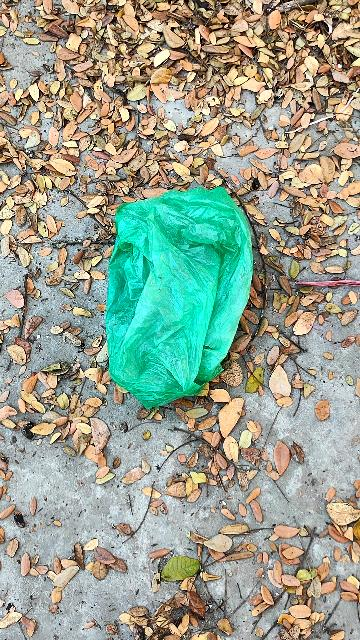polythene: (77, 166, 263, 421)
